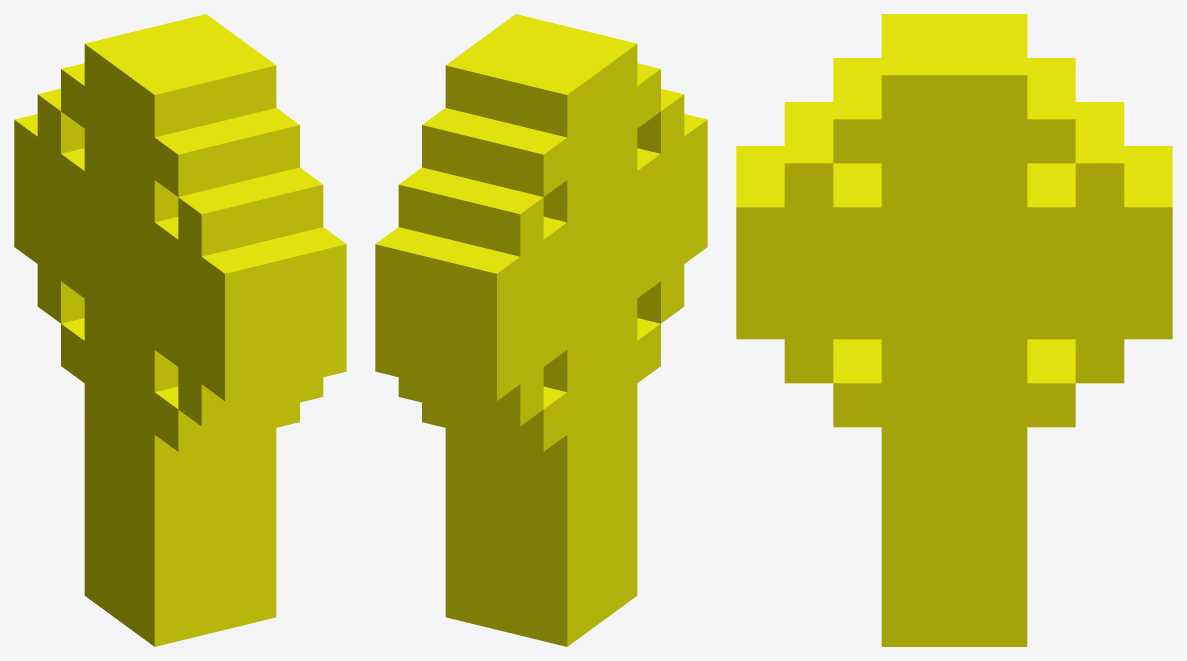
The model's file is voxel-cathedral-cross-grave.glb.
3 renders of one model, left to right at view 1: azimuth 30°, elevation 25°; view 2: azimuth 150°, elevation 25°; view 3: azimuth 270°, elevation 25°, orthographic. The views are drawn at different scales.
Visible parts, largest first — view 1: VS_Cathedral_Environment_Grave_002; view 2: VS_Cathedral_Environment_Grave_002; view 3: VS_Cathedral_Environment_Grave_002.
Boxes of the visible parts, bbox=[...] form: VS_Cathedral_Environment_Grave_002: bbox=[14, 14, 346, 646]; VS_Cathedral_Environment_Grave_002: bbox=[375, 14, 707, 646]; VS_Cathedral_Environment_Grave_002: bbox=[736, 14, 1172, 646].
Bounding box in the file's own units: 0.2999 × 1.3 × 0.9.
